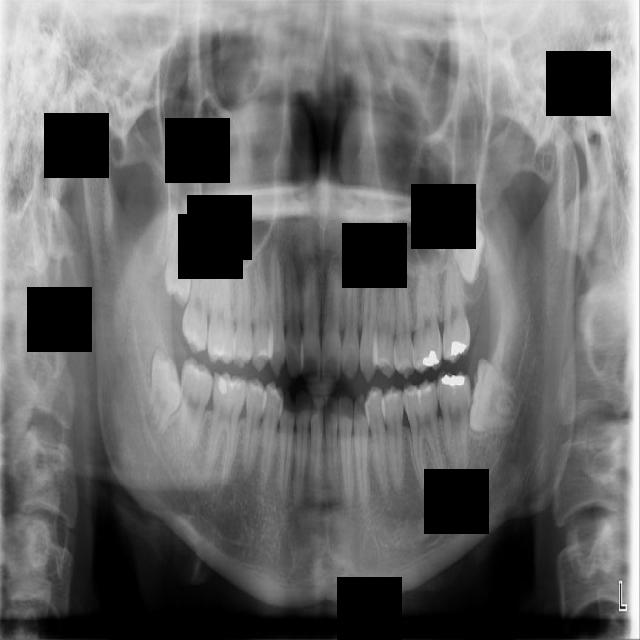3M ESPE Implant: (165, 198, 191, 310)
52: (206, 369, 251, 418), (437, 370, 472, 414), (412, 324, 442, 373), (441, 317, 471, 363)
73: (548, 506, 556, 518)
BioHorizons Implant: (441, 251, 473, 364)
BioLife Implant: (446, 214, 487, 286)
Biomet 3i Implant: (469, 359, 519, 432)
Blue Sky Bio Implant: (435, 370, 471, 469)
Caries: (181, 250, 209, 355)
Implant: (174, 356, 216, 454)
Keystone Dental Implant: (145, 349, 186, 438)
